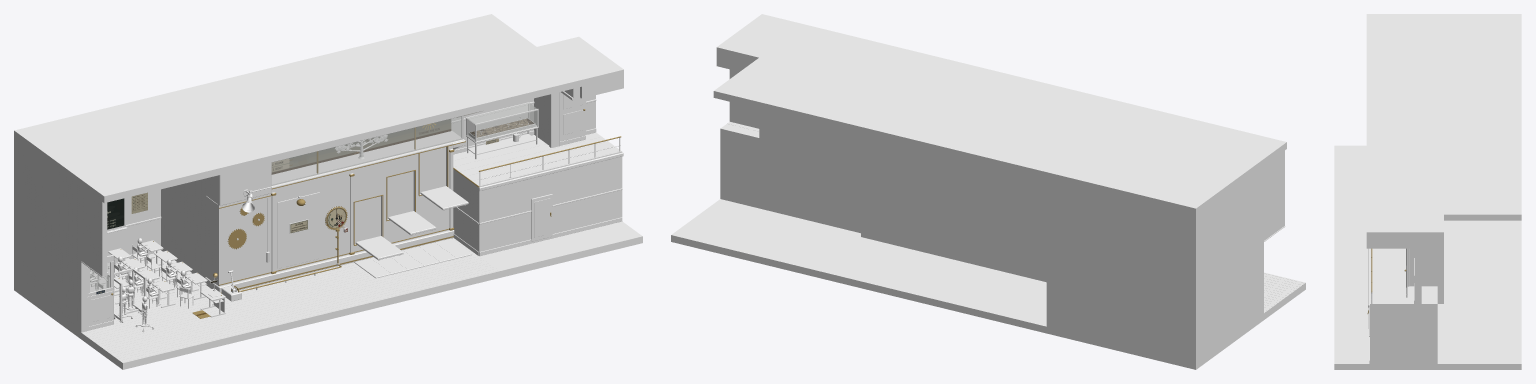
3 views of the same model, side by side, from view 1: azimuth 30°, elevation 25°; view 2: azimuth 150°, elevation 25°; view 3: azimuth 270°, elevation 25° (orthographic). The views are drawn at different scales.
Visible parts, largest first — view 1: AttLessonRoom, AttStep1, AttStep2, AttStep3; view 2: AttLessonRoom; view 3: AttLessonRoom.
Boxes of the visible parts, x1,y1,x2,y2 form: AttLessonRoom: [14, 14, 642, 369]; AttStep1: [355, 236, 403, 260]; AttStep2: [388, 211, 436, 235]; AttStep3: [420, 186, 468, 210]; AttLessonRoom: [671, 14, 1305, 369]; AttLessonRoom: [1334, 14, 1521, 369].
Bounding box in the file's own units: 16.03 × 4.7 × 5.8.
Materials: 17 (2 with a texture image).
